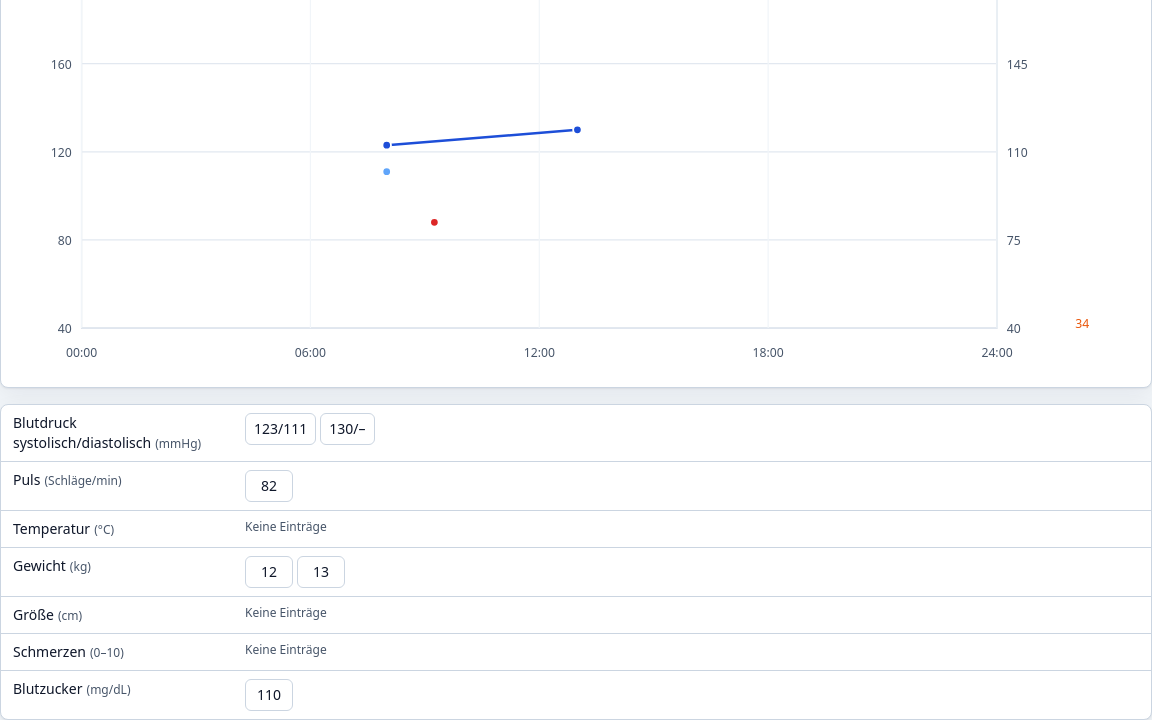
it: EntryRows › shows only the label for an uncharted kind
(page scrolled)
Hover over the button named "Blutzucker 110 mg/dL": x=269, y=695 [245,679,293,711]
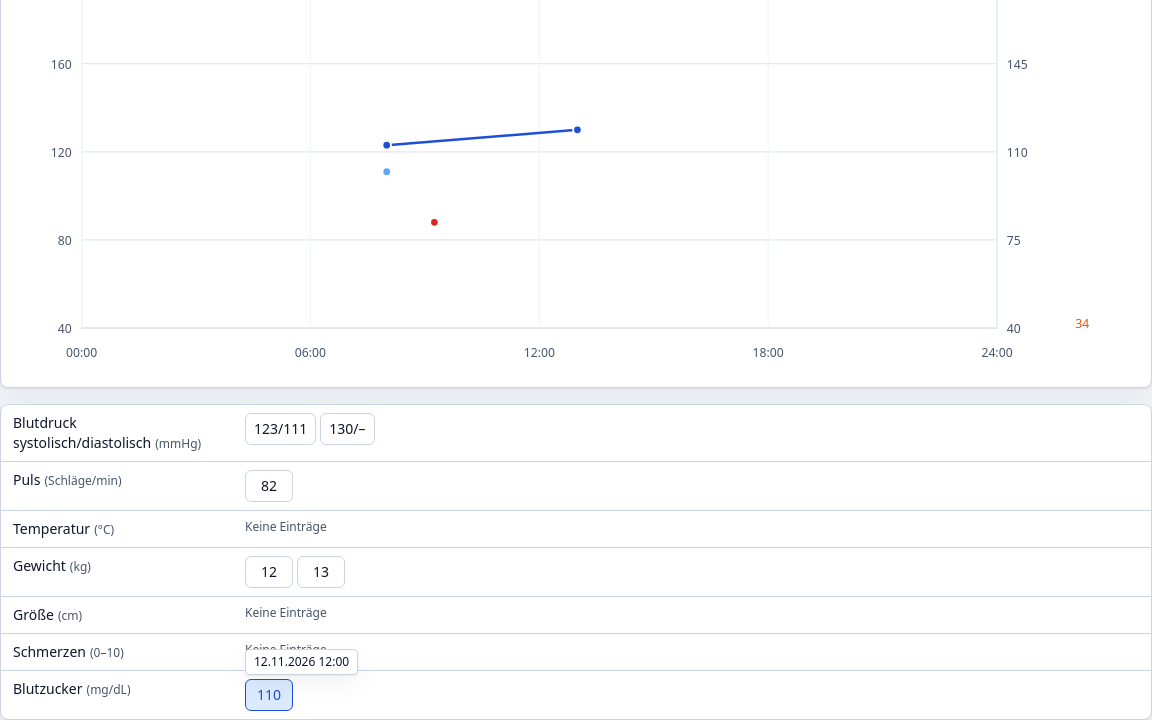
Expected: the tooltip reads "12.11.2026 12:00", [254,653,349,670]
